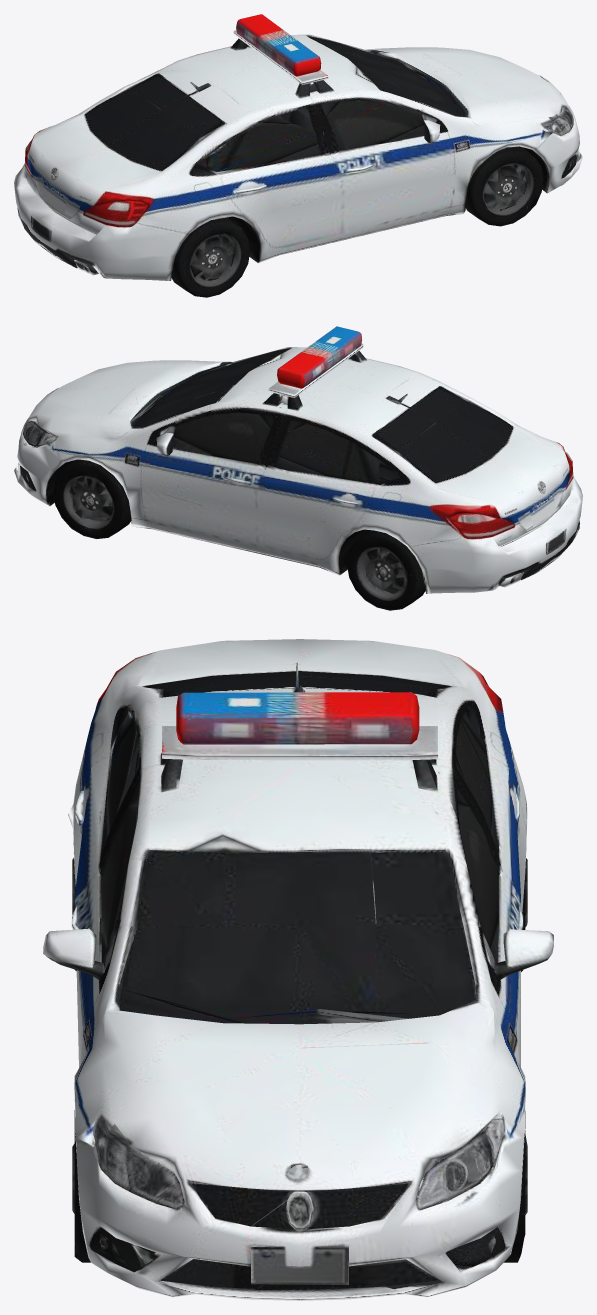
Rendered from police.glb.
3 views of the same model, one above another, from view 1: azimuth 30°, elevation 25°; view 2: azimuth 150°, elevation 25°; view 3: azimuth 270°, elevation 25° (orthographic). The views are drawn at different scales.
Parts seen in each view (by area): view 1: rue_police; view 2: rue_police; view 3: rue_police.
Boxes of the visible parts, <box> form: rue_police: <box>14,14,582,297</box>; rue_police: <box>14,326,582,610</box>; rue_police: <box>43,639,553,1300</box>.
Bounding box in the file's own units: 4.75 × 1.66 × 2.02.
Materials: 1 (1 with a texture image).
